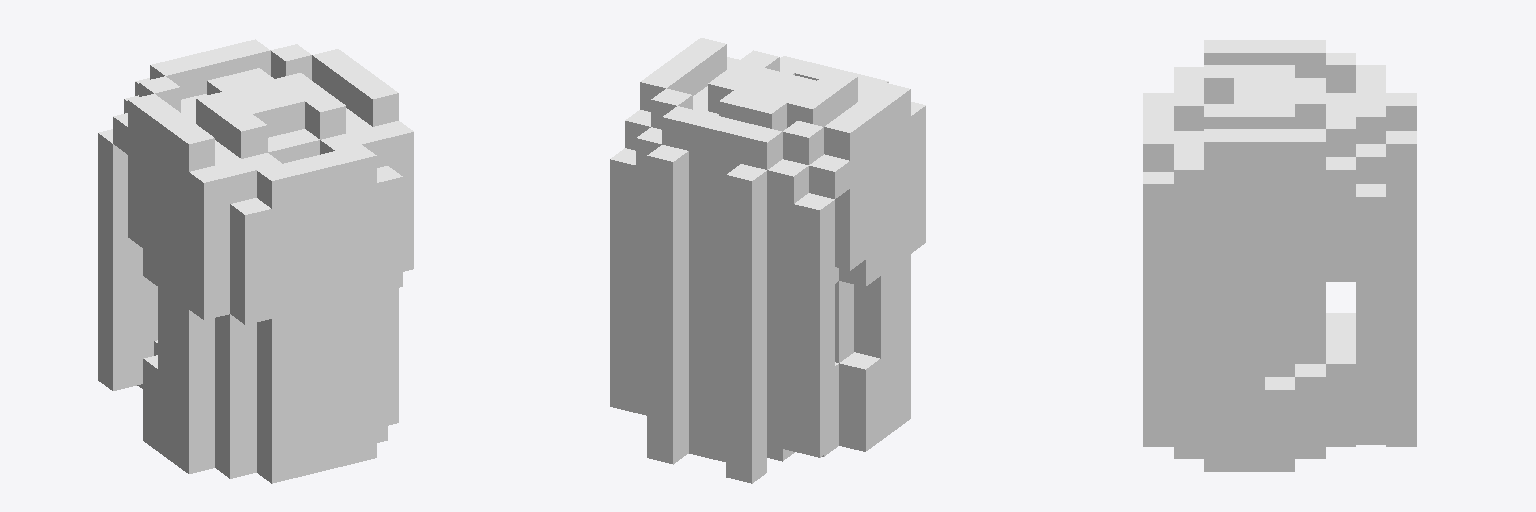
Rendered from char-69-chest_lgt_3_ja_du_color.obj.
3 renders of one model, left to right at view 1: azimuth 30°, elevation 25°; view 2: azimuth 150°, elevation 25°; view 3: azimuth 270°, elevation 25°, orthographic.
Visible parts, largest first — view 1: chest_lgt_3_ja_du_color; view 2: chest_lgt_3_ja_du_color; view 3: chest_lgt_3_ja_du_color.
Part boxes in pixels (x1,y1,x2,y2): chest_lgt_3_ja_du_color: (98, 39, 413, 483); chest_lgt_3_ja_du_color: (610, 38, 925, 483); chest_lgt_3_ja_du_color: (1143, 40, 1416, 471).
Bounding box in the file's own units: 0.8 × 1.2 × 0.9.